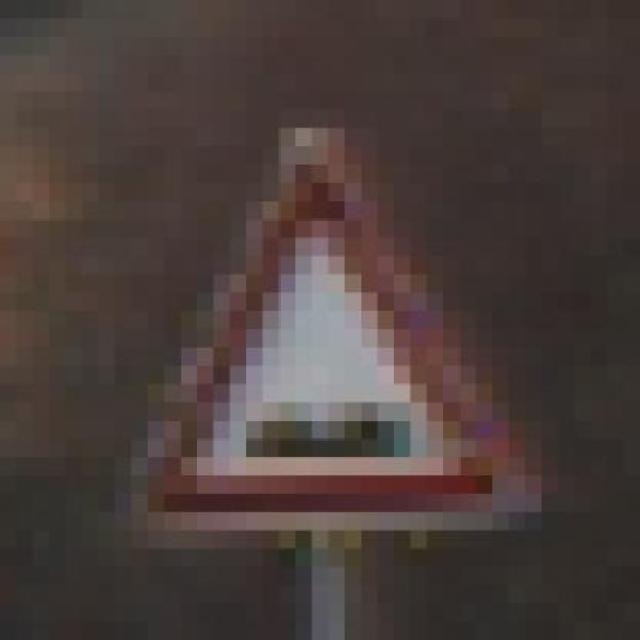Uneven Road: (81, 110, 542, 567)
